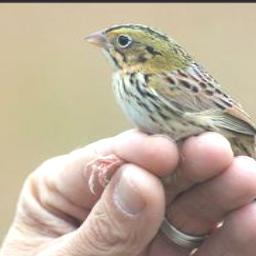Sparrow: (83, 23, 256, 254)
